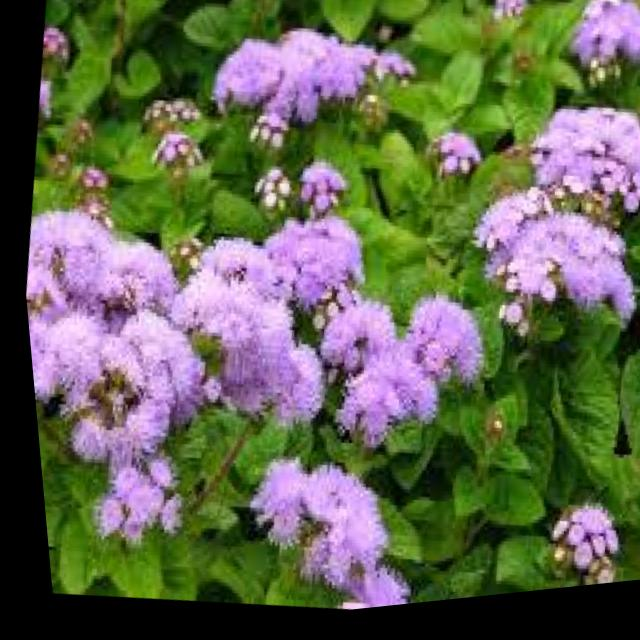Flower: (14, 181, 235, 493), (149, 202, 376, 456), (287, 280, 495, 473), (195, 8, 407, 158), (234, 444, 395, 602), (516, 102, 640, 229)
